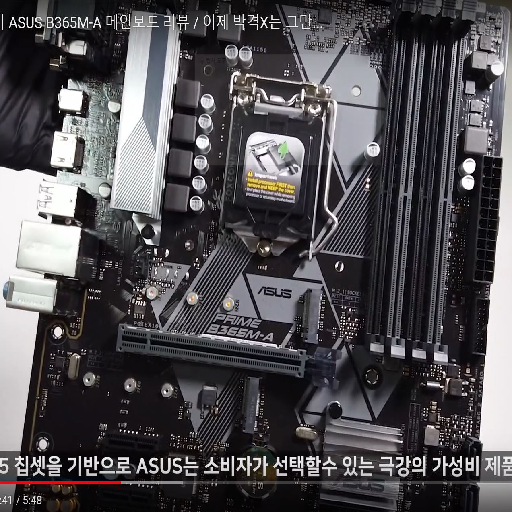CPU: (219, 69, 333, 259)
GPU: (116, 325, 340, 392)
MOTHERBOARD: (11, 2, 511, 511)
RAM: (366, 11, 471, 367)
SSD: (296, 288, 326, 344), (239, 376, 267, 435)
